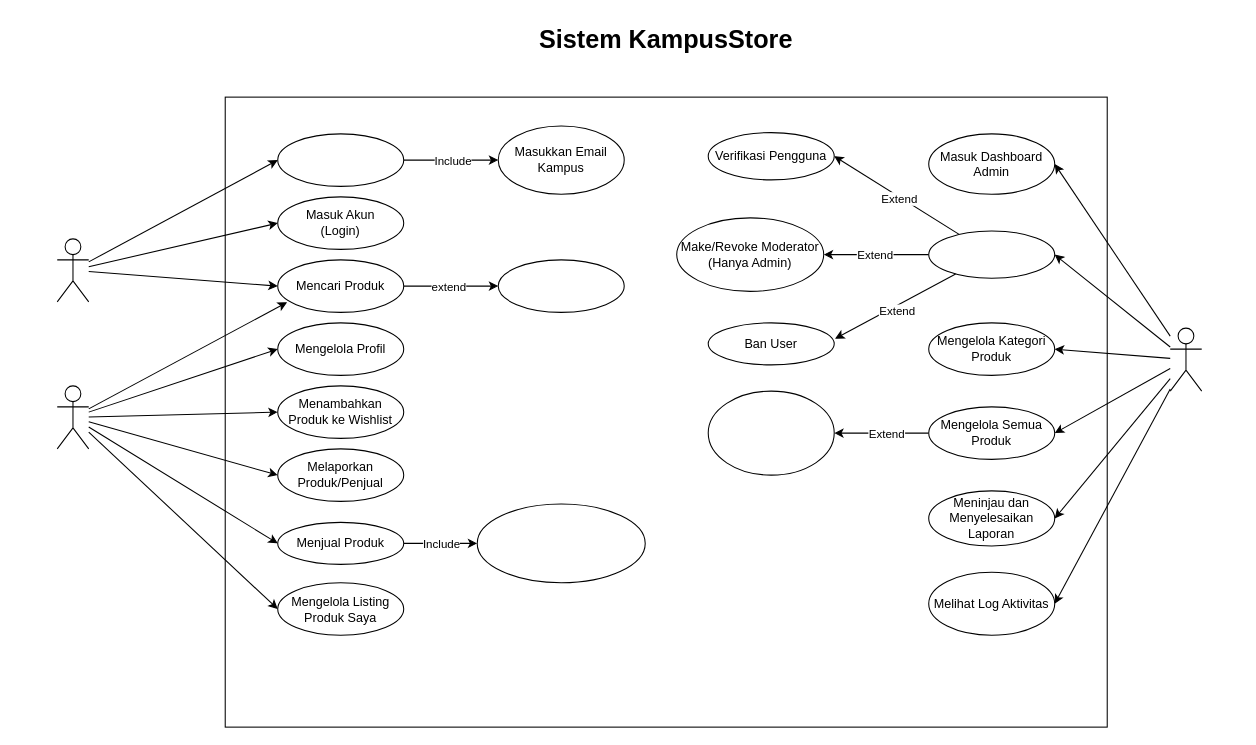
Some shapes in this 1256 by 745 pixel diagram are drawn without their labels. The centre of each missing label's shape, as x and y in pixels:
Admin / Moderator: the point at 1185,359
Filter berdasarkan Kategori: the point at 560,285
Hapus/Mark Produk paksa: the point at 770,432
Melengkapi Data Penjual (Nomor WA): the point at 560,543
Mendaftar Akun (Register): the point at 340,159
Mengelola Pengguna: the point at 991,254
Pengguna Terdaftar (User): the point at 72,417
Pengunjung (Guest): the point at 72,270
